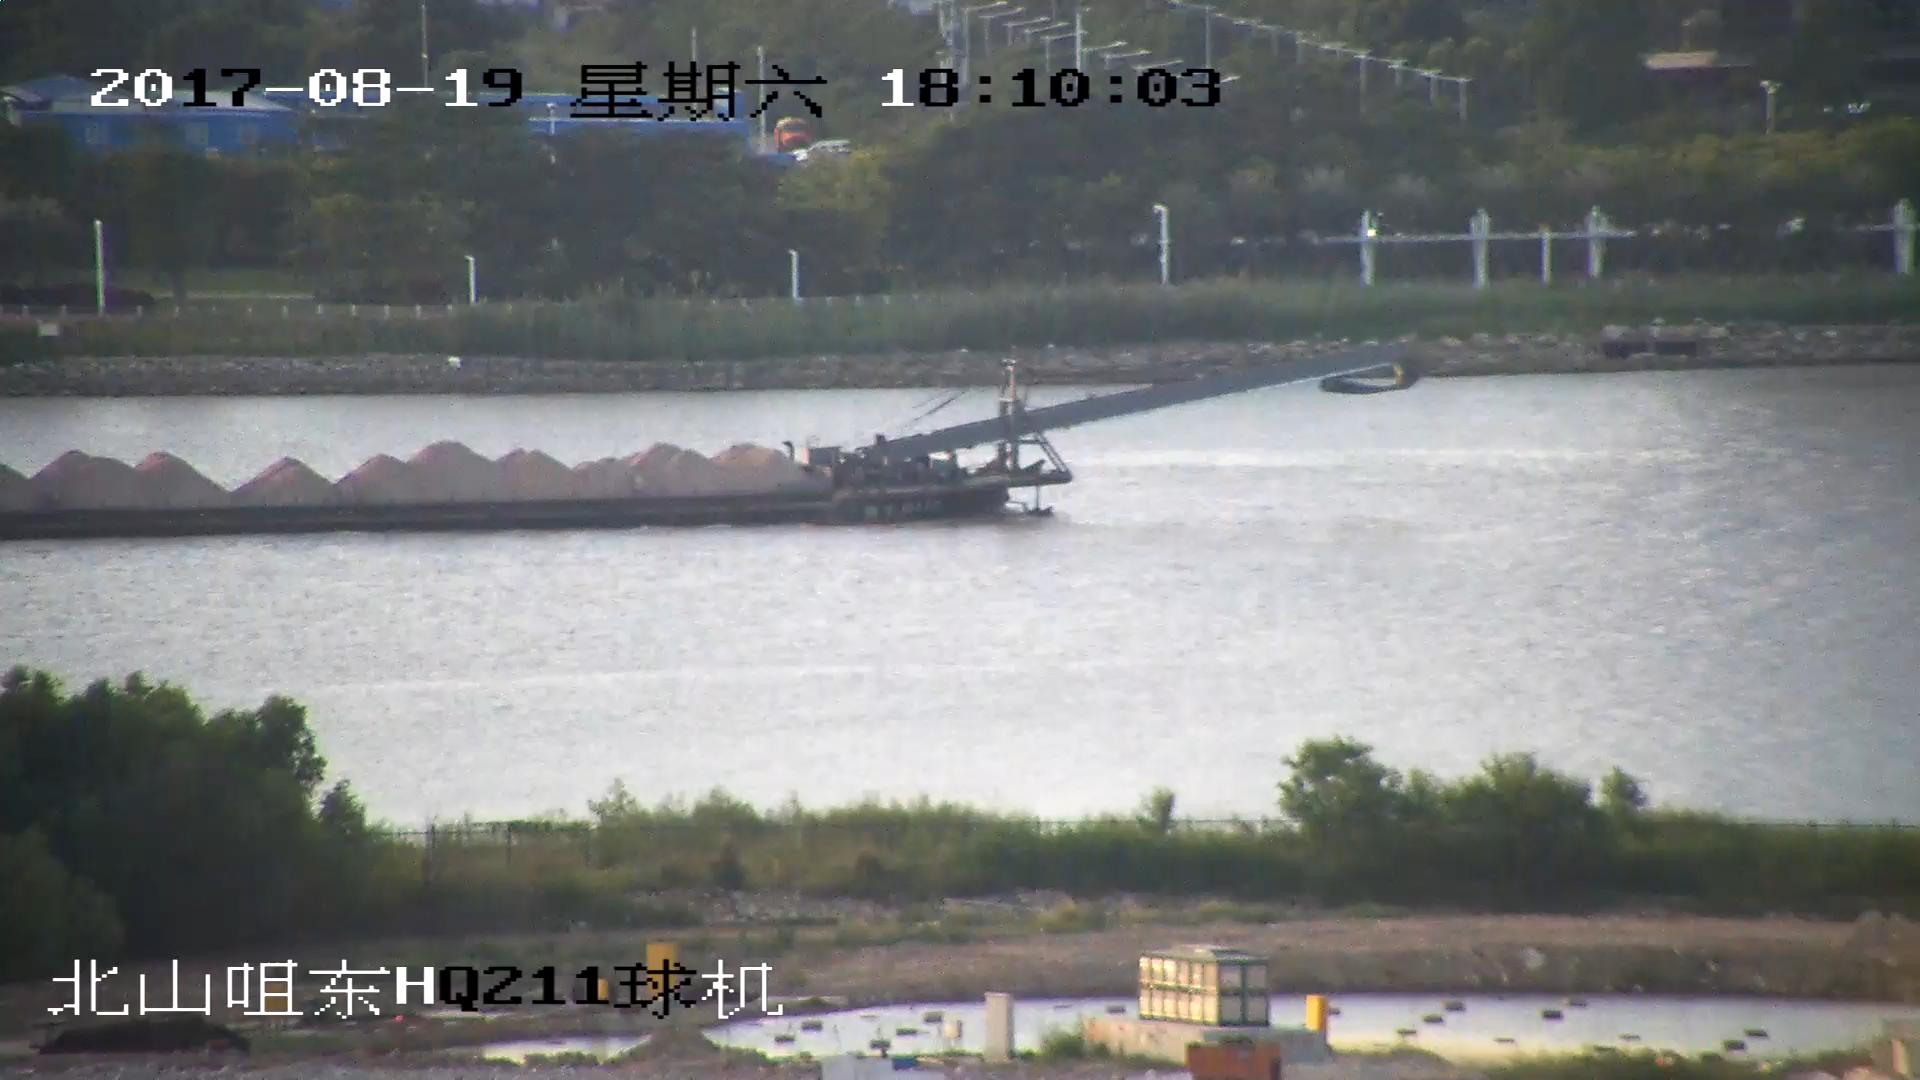ore carrier: (1, 342, 1409, 544)
